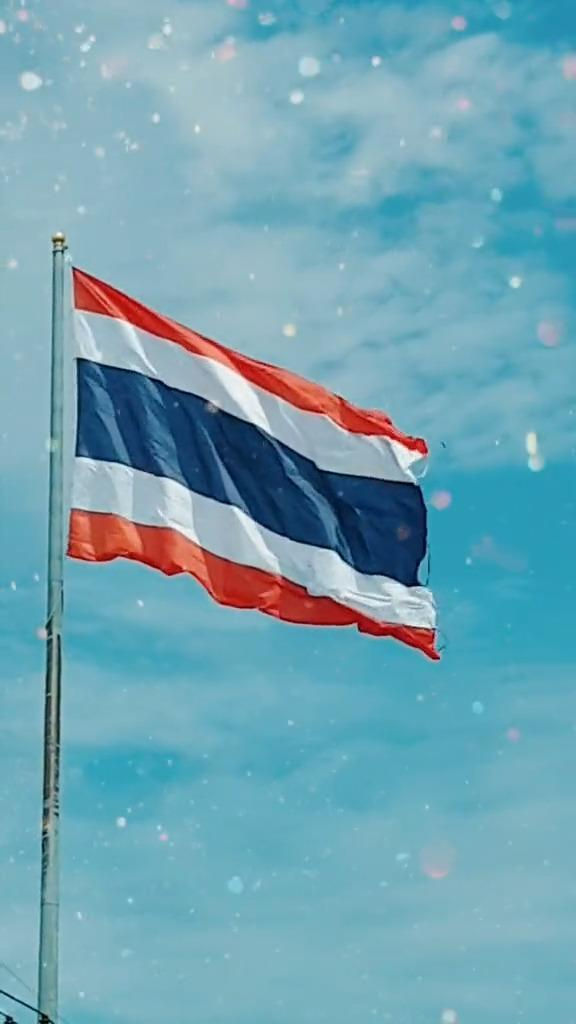Thailand: (65, 270, 447, 663)
